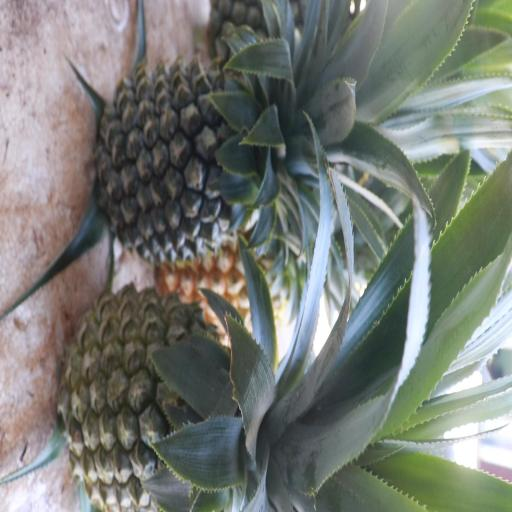------------------------------: (68, 289, 290, 504)
